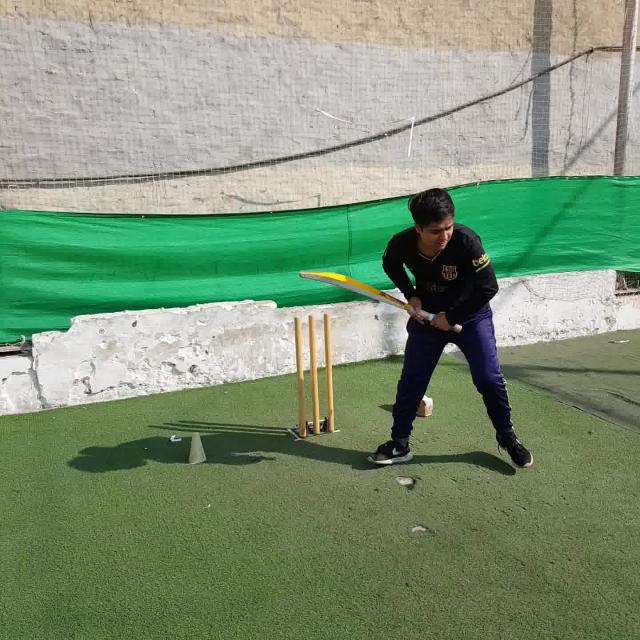bat: (300, 272, 461, 332)
